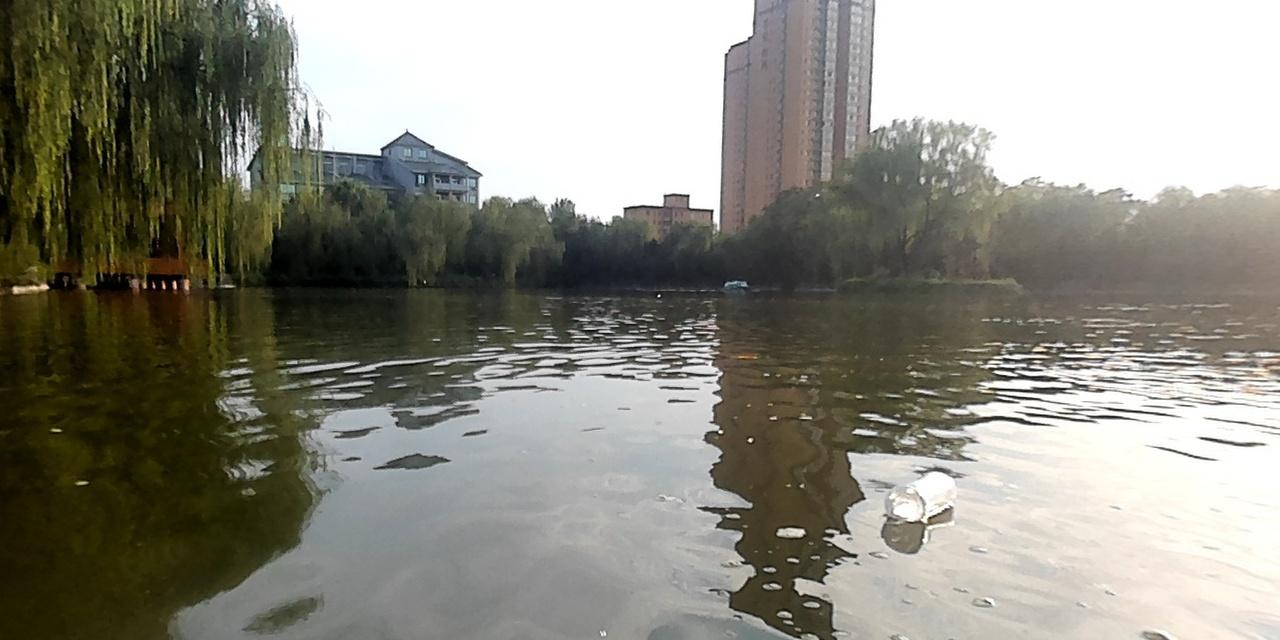bottle: (882, 466, 960, 524)
